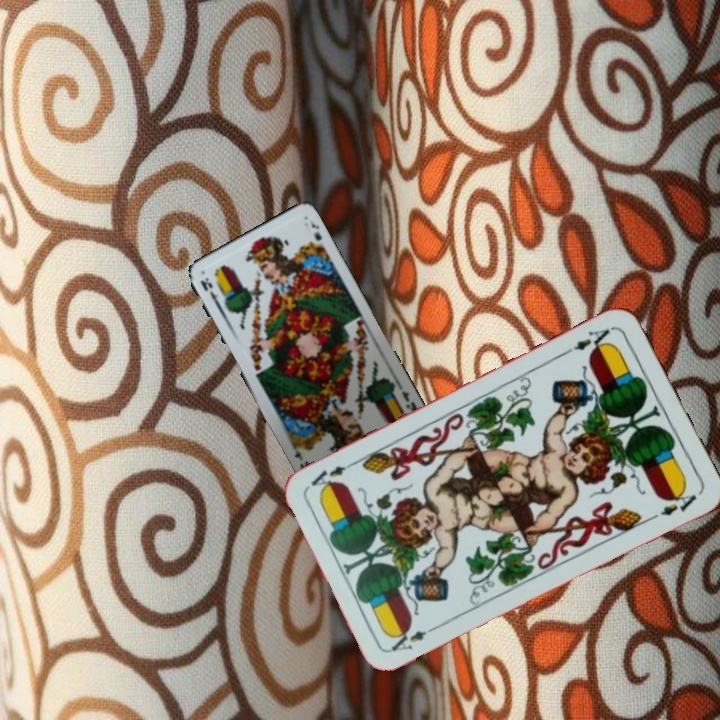EA: (386, 620, 442, 655), (560, 323, 615, 357)
EK: (196, 274, 223, 311), (398, 386, 421, 415)
